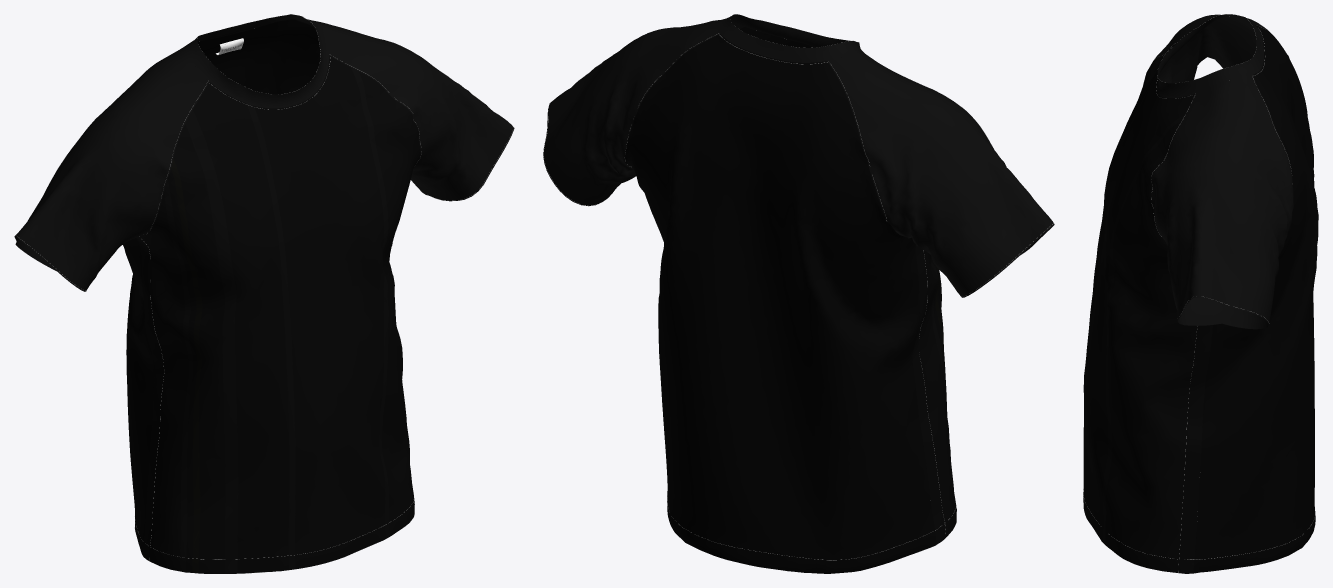
Rendered from tshirt1.glb.
3 views of the same model, side by side, from view 1: azimuth 30°, elevation 25°; view 2: azimuth 150°, elevation 25°; view 3: azimuth 270°, elevation 25° (orthographic). The views are drawn at different scales.
Parts seen in each view (by area): view 1: Object_111, Object_123, Object_113, Object_121; view 2: Object_113, Object_123, Object_111, Object_121; view 3: Object_111, Object_113, Object_123, Object_121.
Part boxes in pixels (x1,y1,x2,y2): Object_111: [136, 55, 420, 573]; Object_123: [14, 19, 514, 291]; Object_113: [123, 19, 320, 556]; Object_121: [184, 14, 329, 108]; Object_113: [625, 34, 936, 573]; Object_123: [543, 20, 1054, 297]; Object_111: [739, 27, 956, 571]; Object_121: [717, 14, 863, 62]; Object_111: [1083, 43, 1212, 573]; Object_113: [1193, 25, 1318, 573]; Object_123: [1150, 14, 1293, 329]; Object_121: [1157, 14, 1263, 97].
Size of the model in its own units: 0.6858 by 0.6502 by 0.2894.
7 materials, 4 textured.
